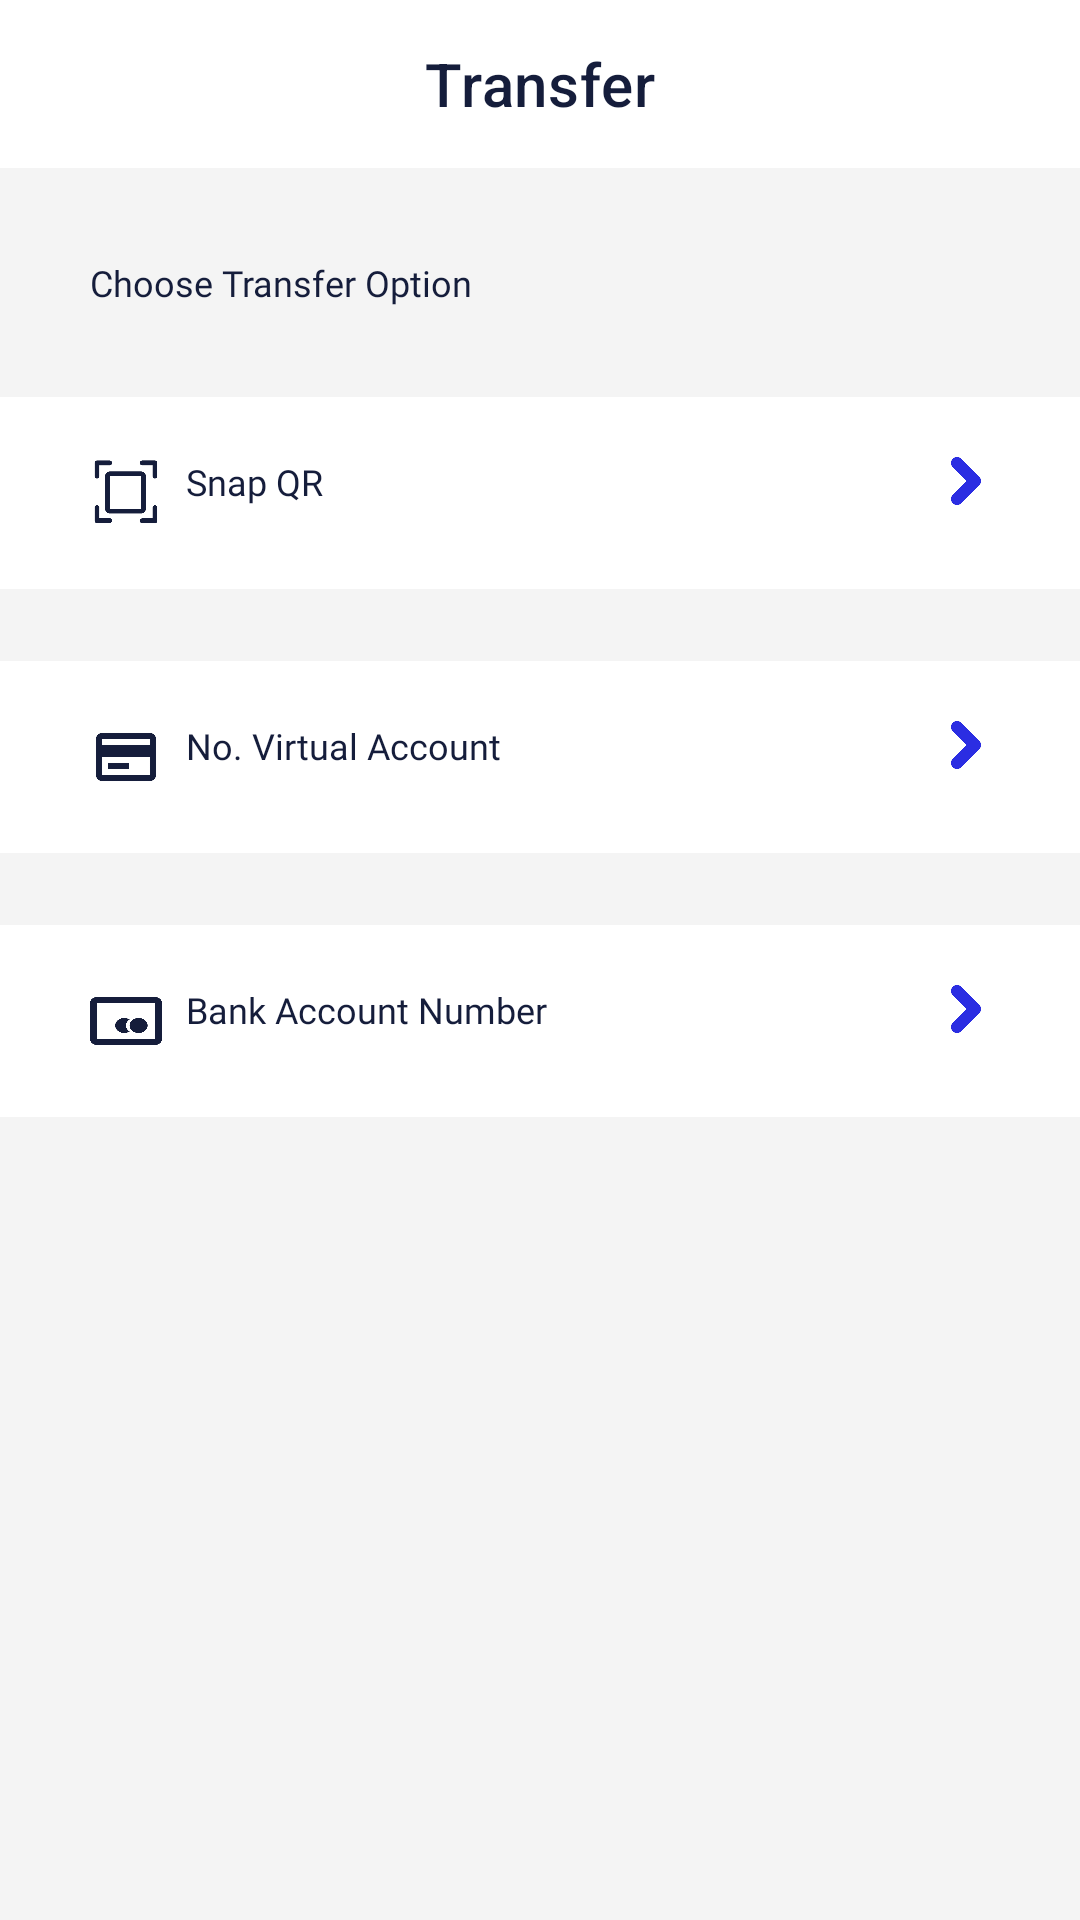

Screen size 1080x1920. Icon name, then its center in pixels as (x,y):
arrow right: (966,481), (966,745), (966,1009)
